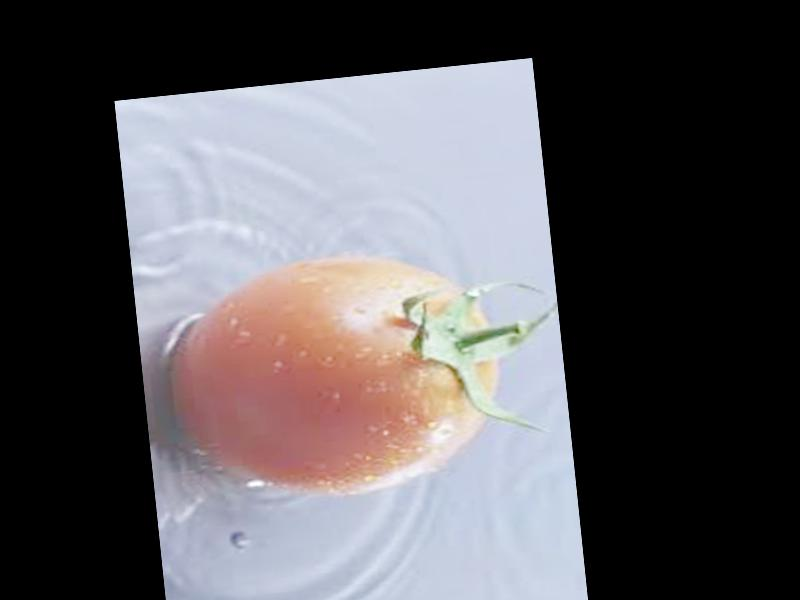Tomato: (160, 243, 507, 508)
